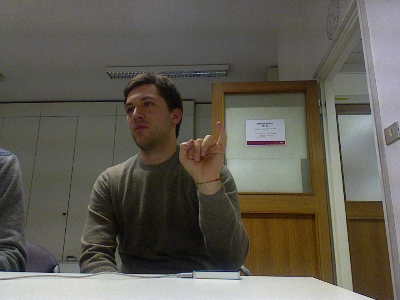小指: (176, 120, 227, 181)
